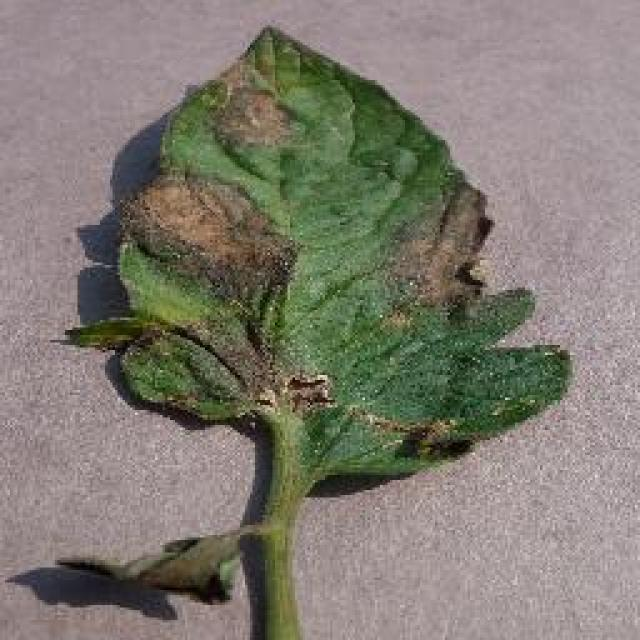Tomato___Late_blight: (48, 28, 572, 638)
